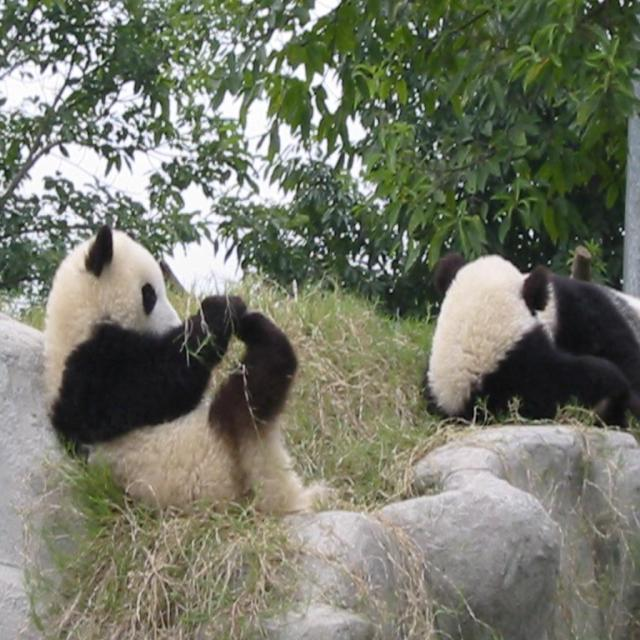panda: (42, 225, 328, 522), (426, 250, 639, 424), (425, 249, 554, 428), (530, 273, 639, 425)
